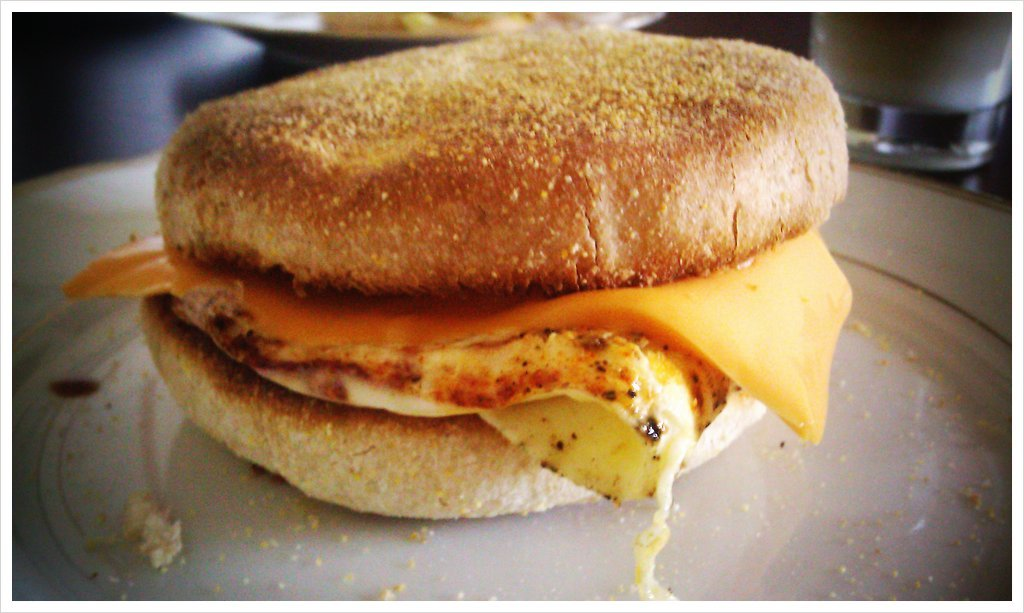Hamburger: (62, 24, 855, 603)
